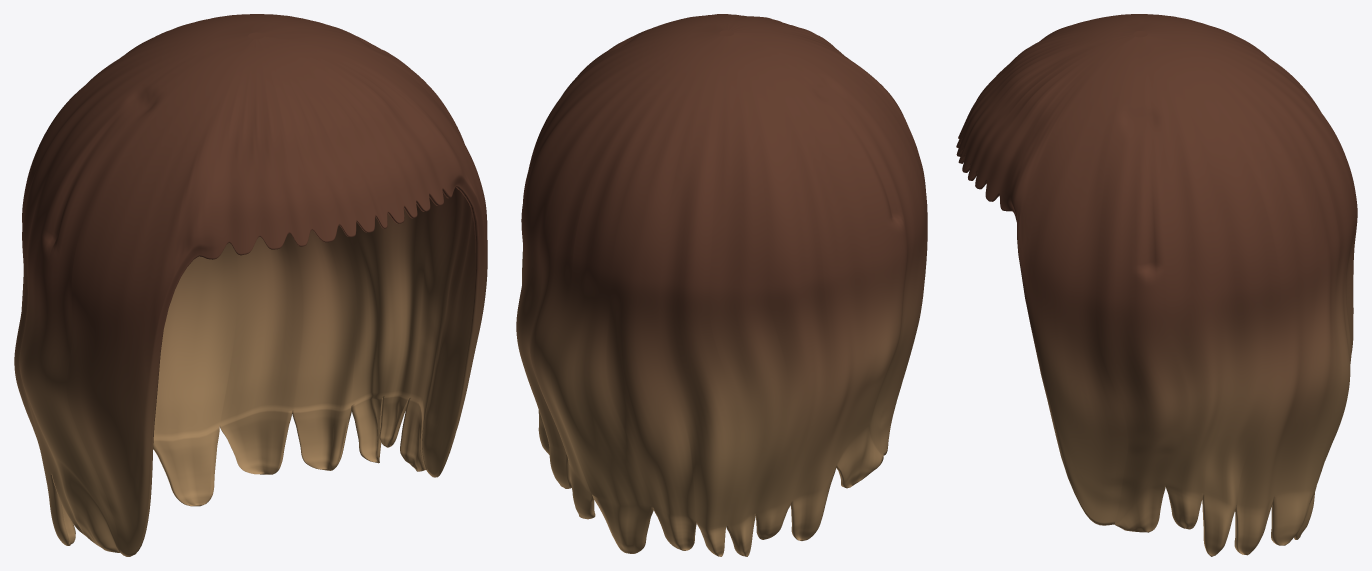
File: long-ears-ombre.glb
3 renders of one model, left to right at view 1: azimuth 30°, elevation 25°; view 2: azimuth 150°, elevation 25°; view 3: azimuth 270°, elevation 25°, orthographic. The views are drawn at different scales.
Visible parts, largest first — view 1: Hair / rounded long fringe; view 2: Hair / rounded long fringe; view 3: Hair / rounded long fringe.
Part boxes in pixels (x1=…): Hair / rounded long fringe: x1=14, y1=14, x2=487, y2=556; Hair / rounded long fringe: x1=516, y1=14, x2=927, y2=556; Hair / rounded long fringe: x1=956, y1=14, x2=1357, y2=556.
Bounding box in the file's own units: 0.8534 × 1.06 × 0.7801.
